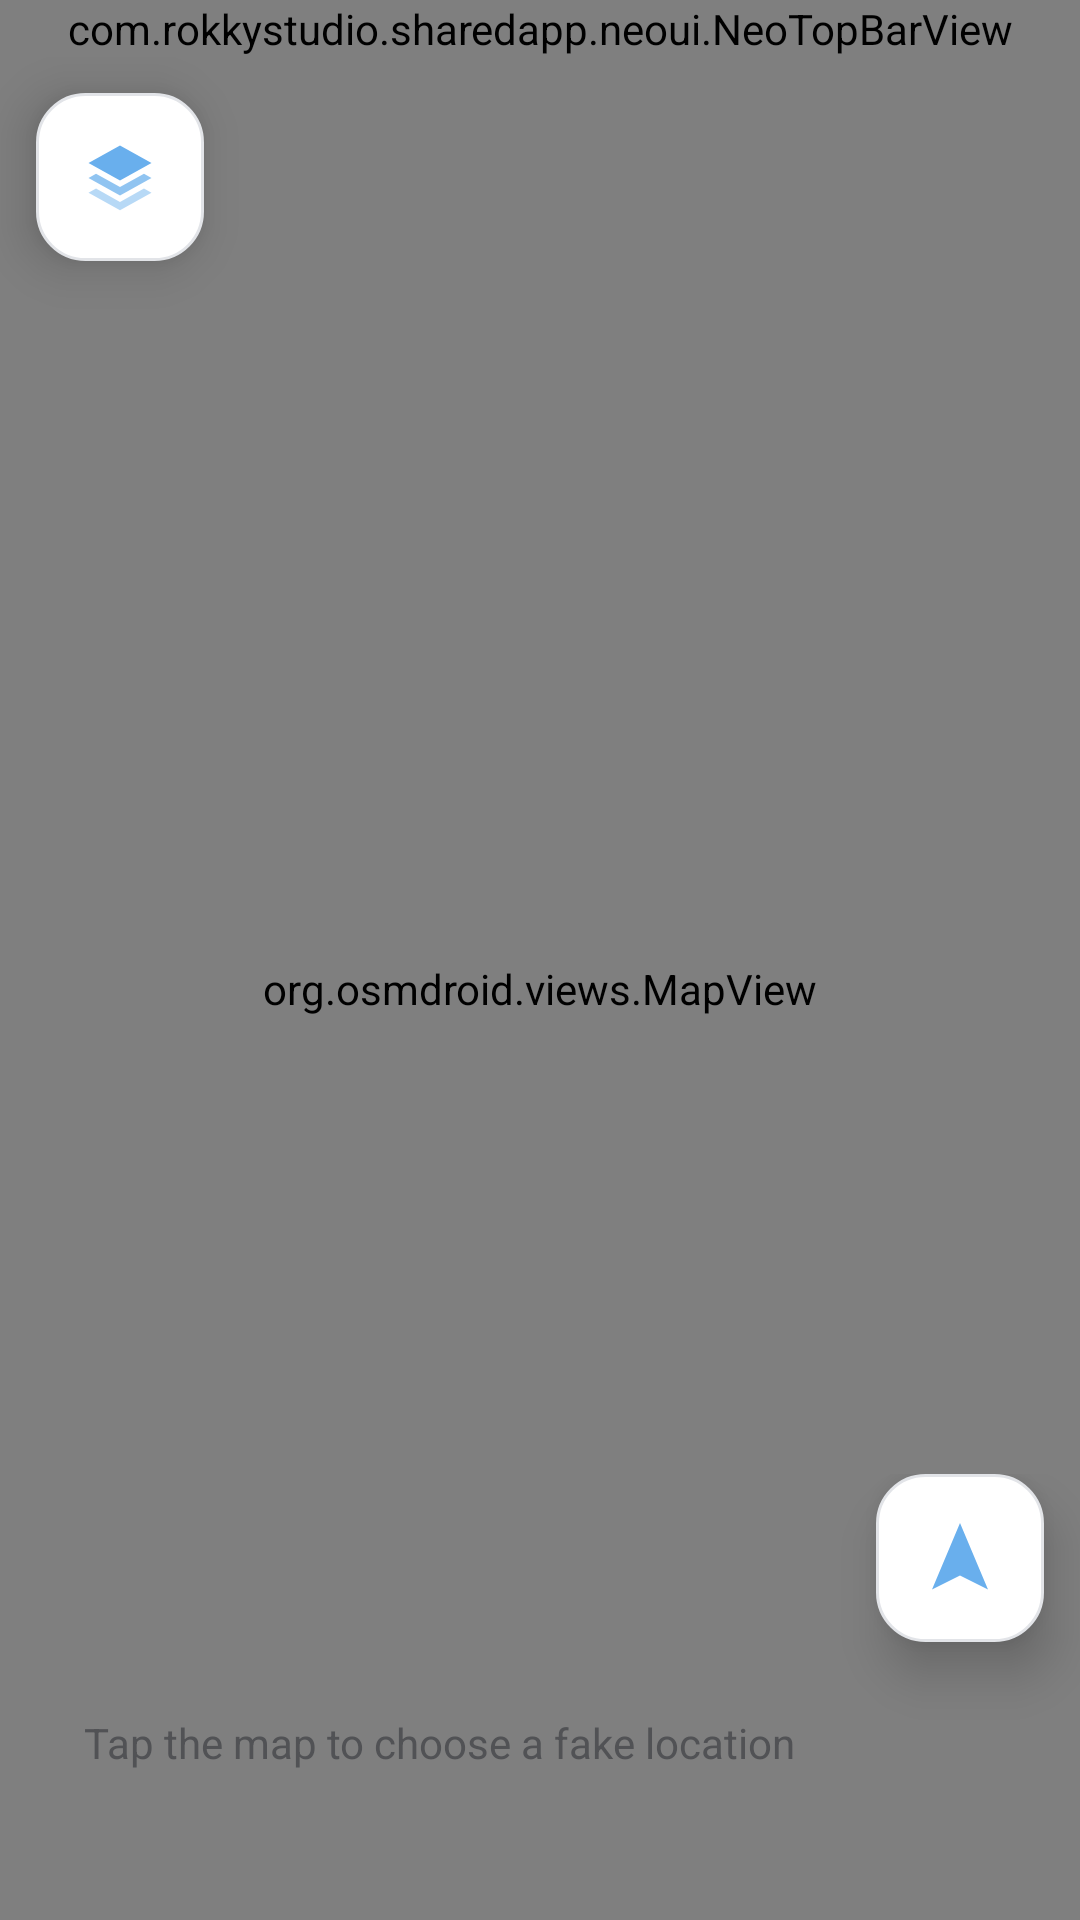

Icon bounding boxes for this 1080w x 1920h phone screenshot, format (x1, y1, x2, y2):
Current location: (876, 1474, 1044, 1642)
Map layers: (36, 93, 204, 261)
